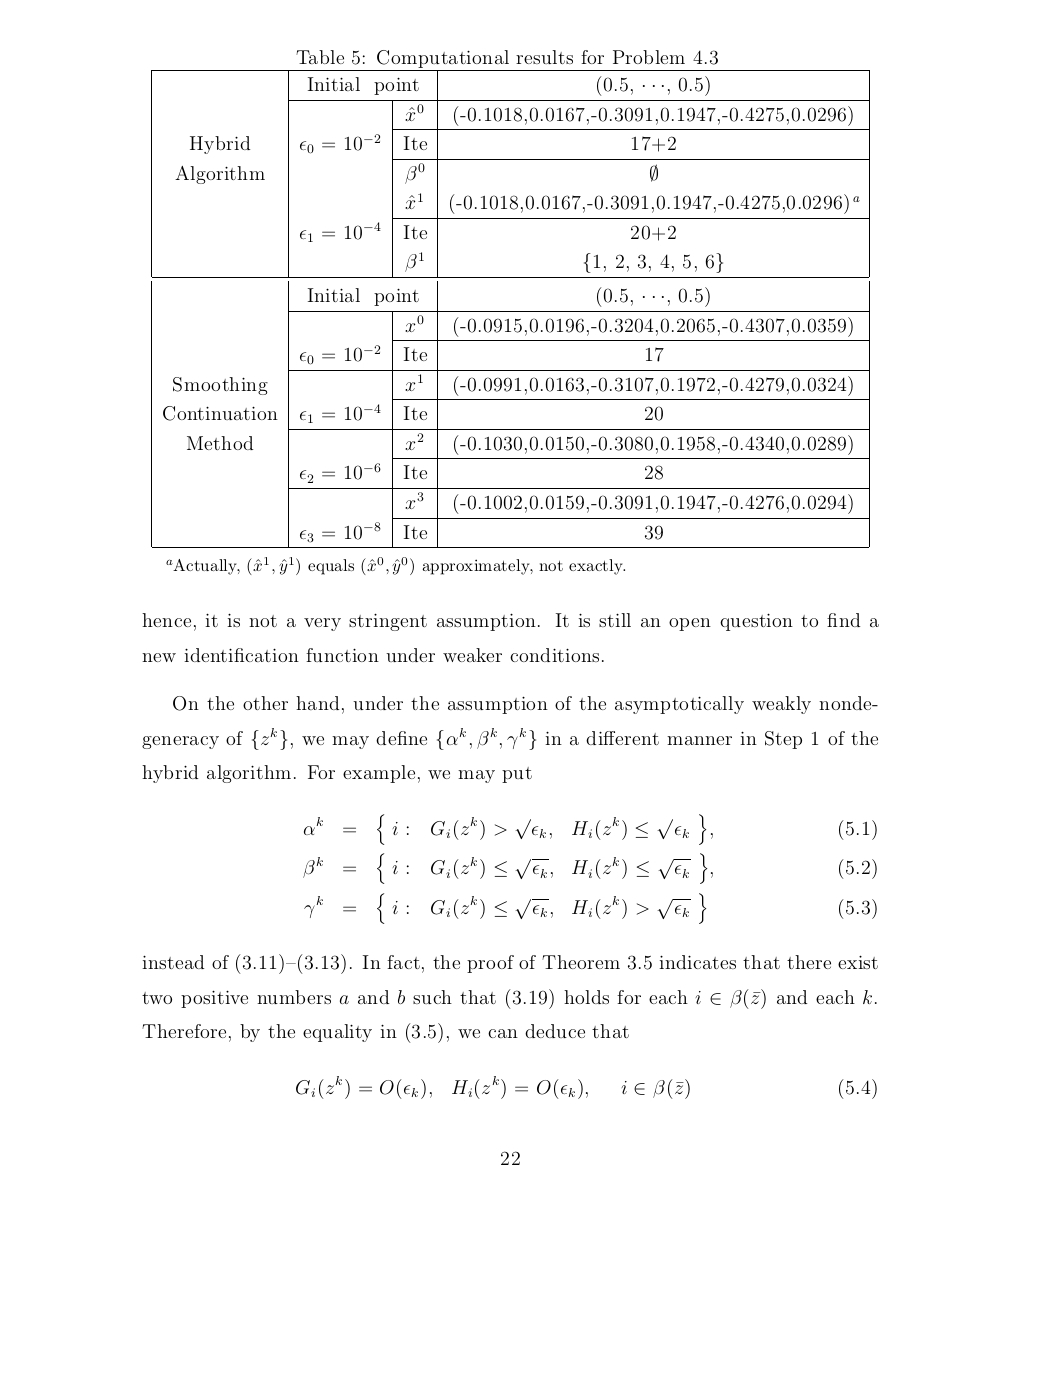Table: (150, 67, 869, 547)
formula: (303, 812, 876, 845), (304, 892, 876, 924), (303, 853, 876, 884), (296, 1075, 876, 1099)
